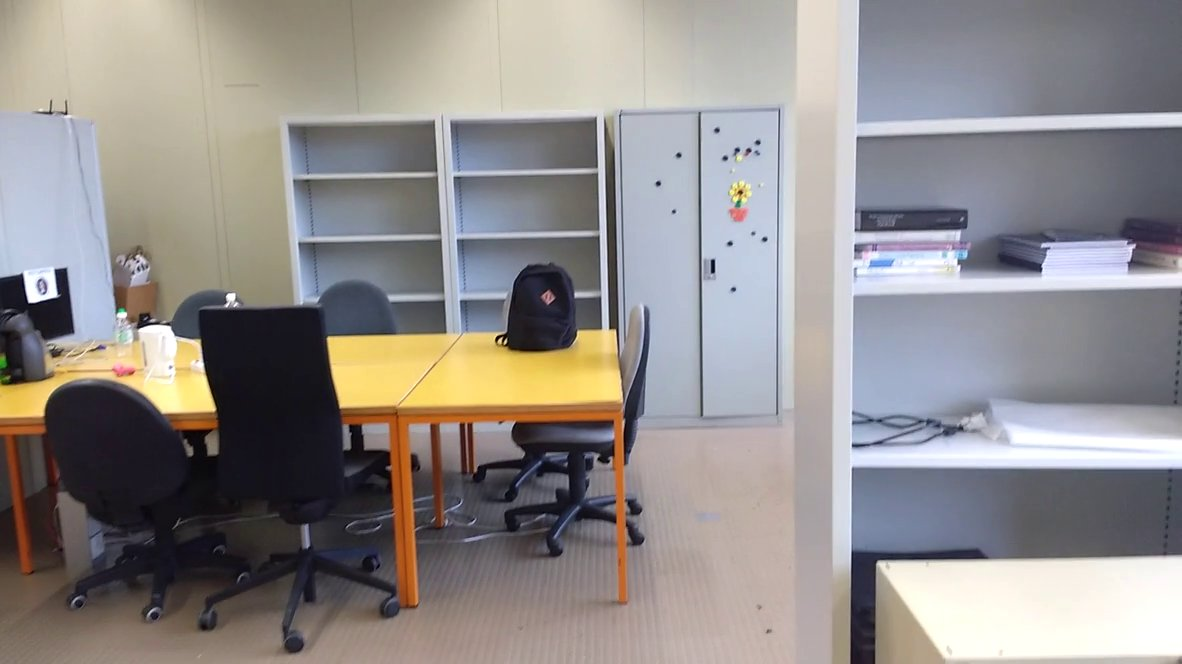bag: (493, 258, 584, 359)
chair: (191, 291, 414, 650), (39, 369, 255, 641), (510, 281, 662, 569), (306, 273, 414, 357)
